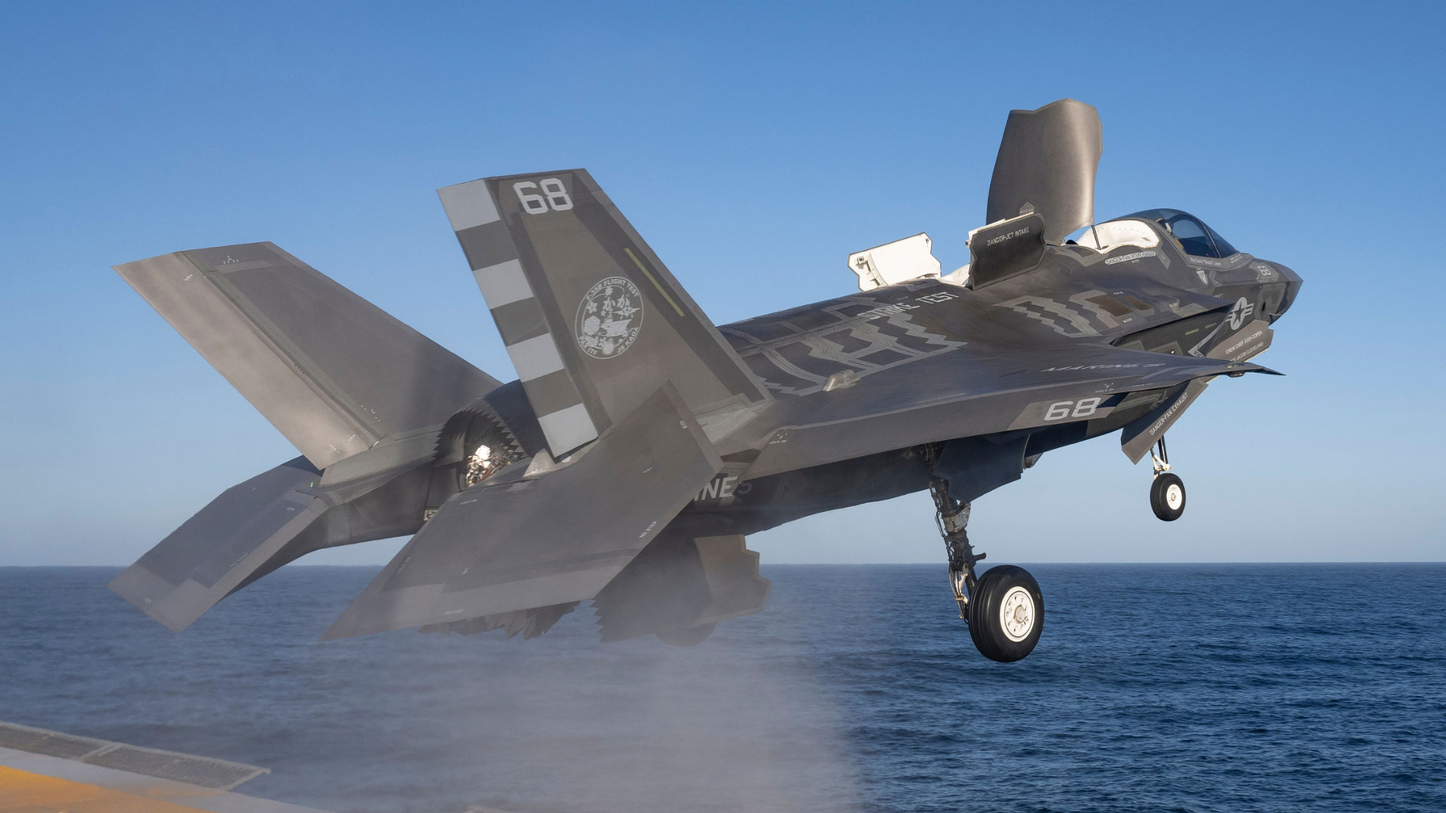F35: (109, 92, 1310, 663)
